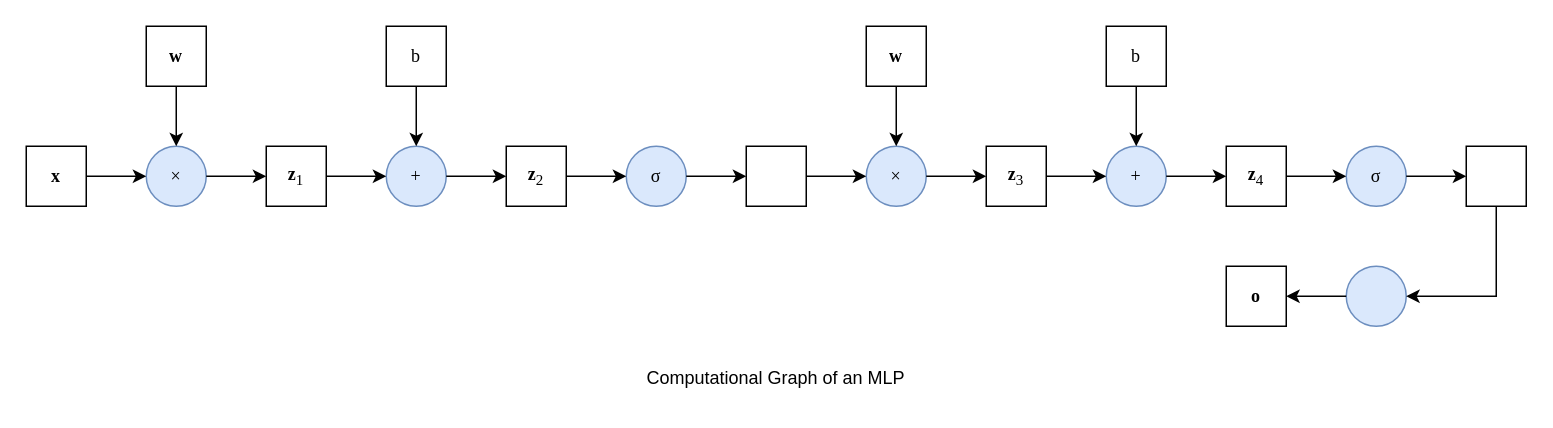
Some shapes in this 1553 by 428 pixel diagram are drawn without their labels. Each missing label, with the centre of its shape:
"h 1" goes at (x=775, y=175).
"h 2" goes at (x=1495, y=175).
"softmax" goes at (x=1375, y=295).
